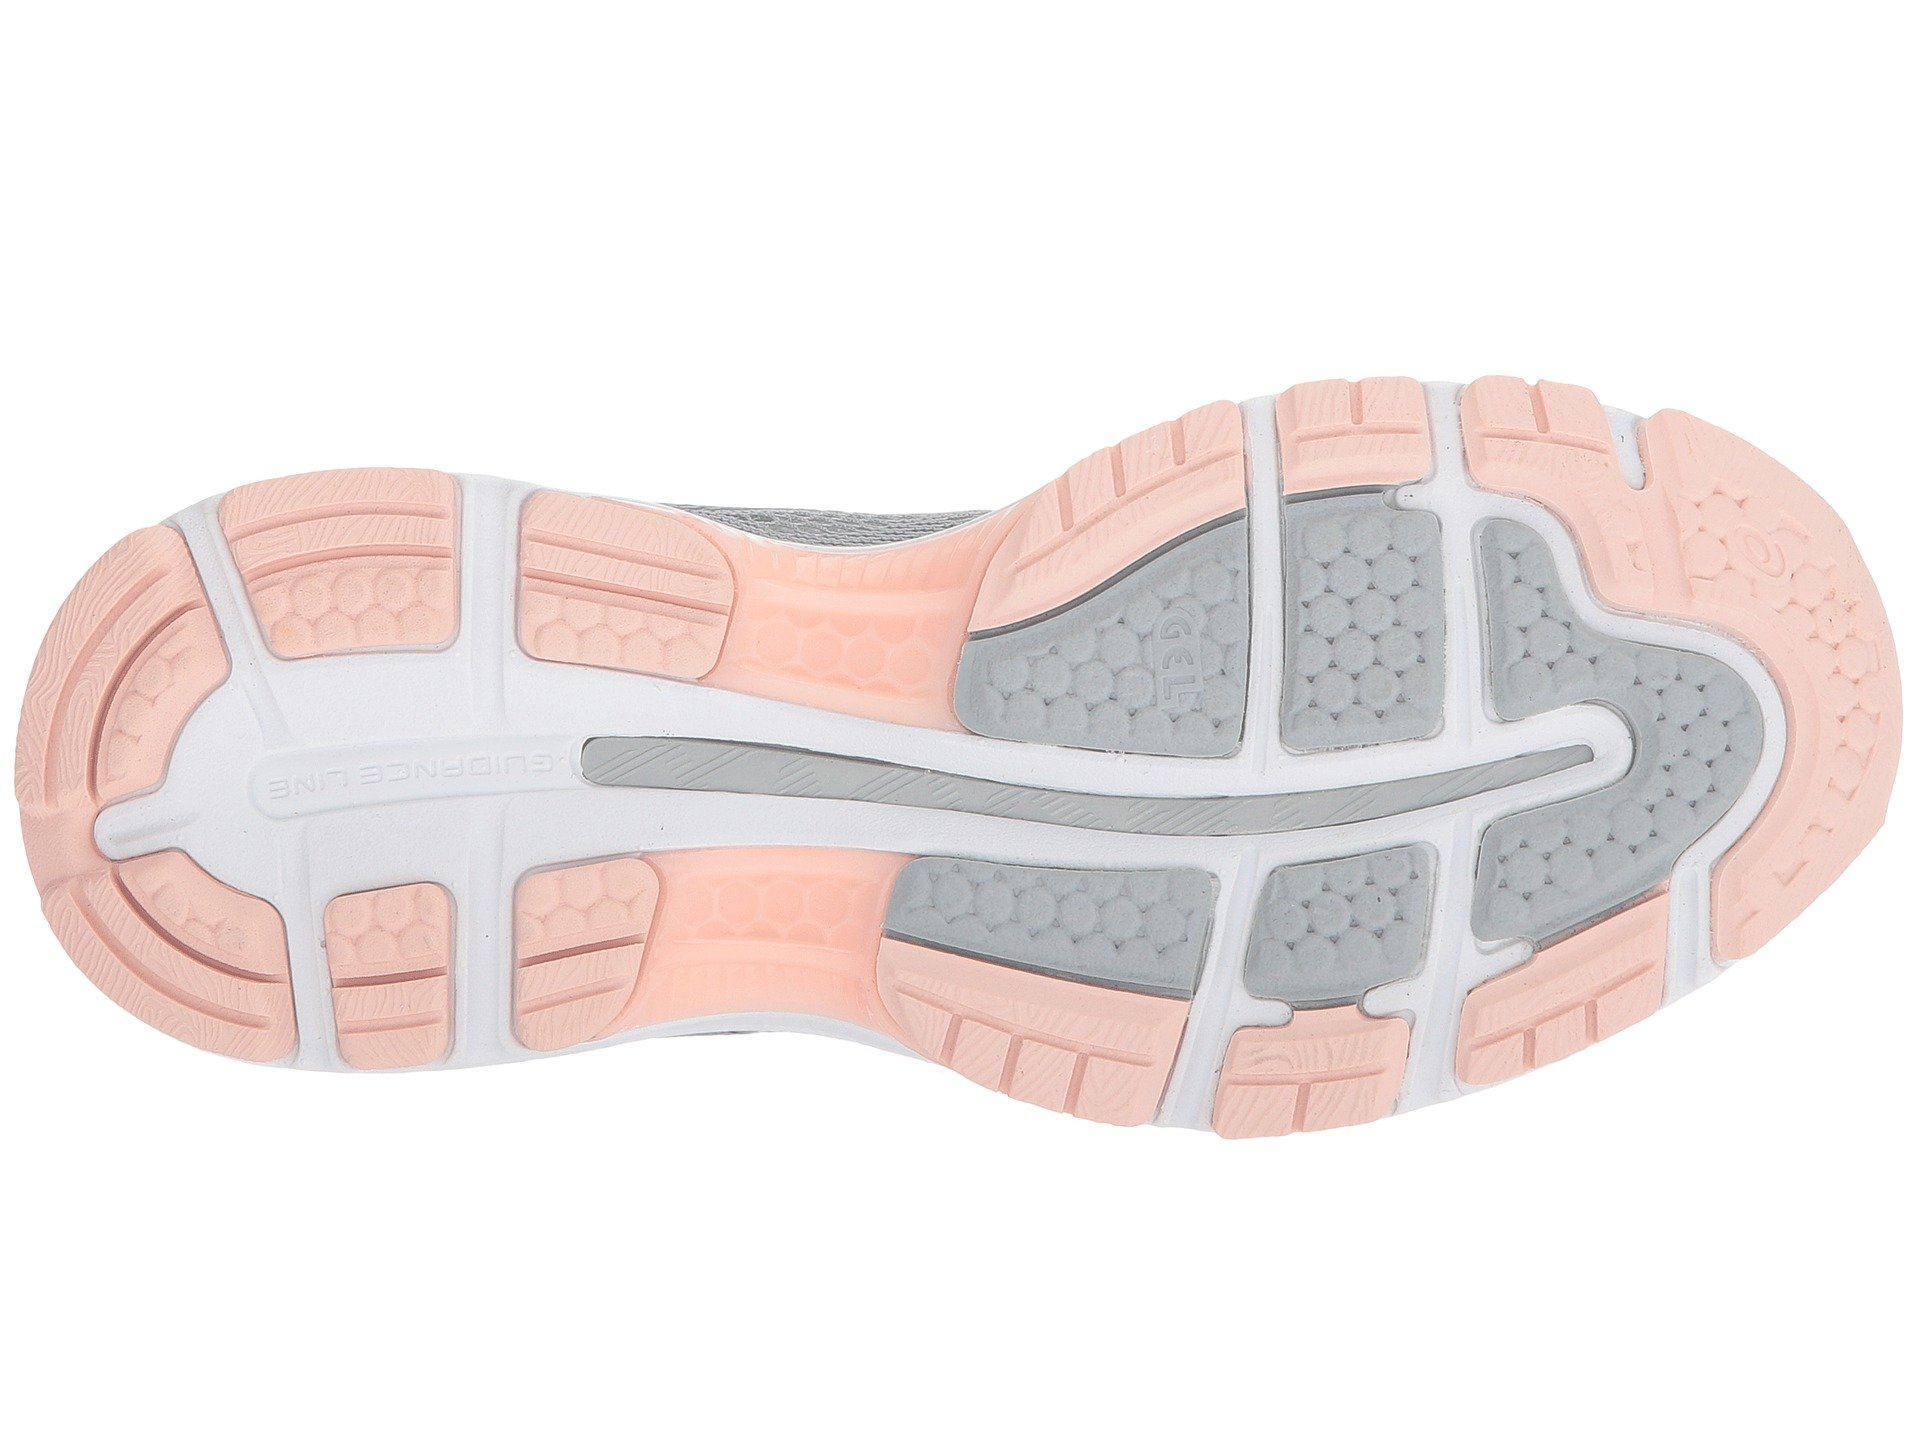circle: (1290, 163, 1441, 343), (1285, 498, 1404, 620), (1043, 263, 1150, 366), (324, 198, 404, 286)
polygon: (661, 493, 892, 573), (766, 242, 957, 334)
quad: (1274, 11, 1427, 76)
text: (417, 383, 485, 443), (293, 389, 351, 448)
